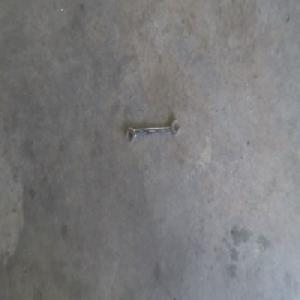Wrench: (126, 118, 183, 144)
